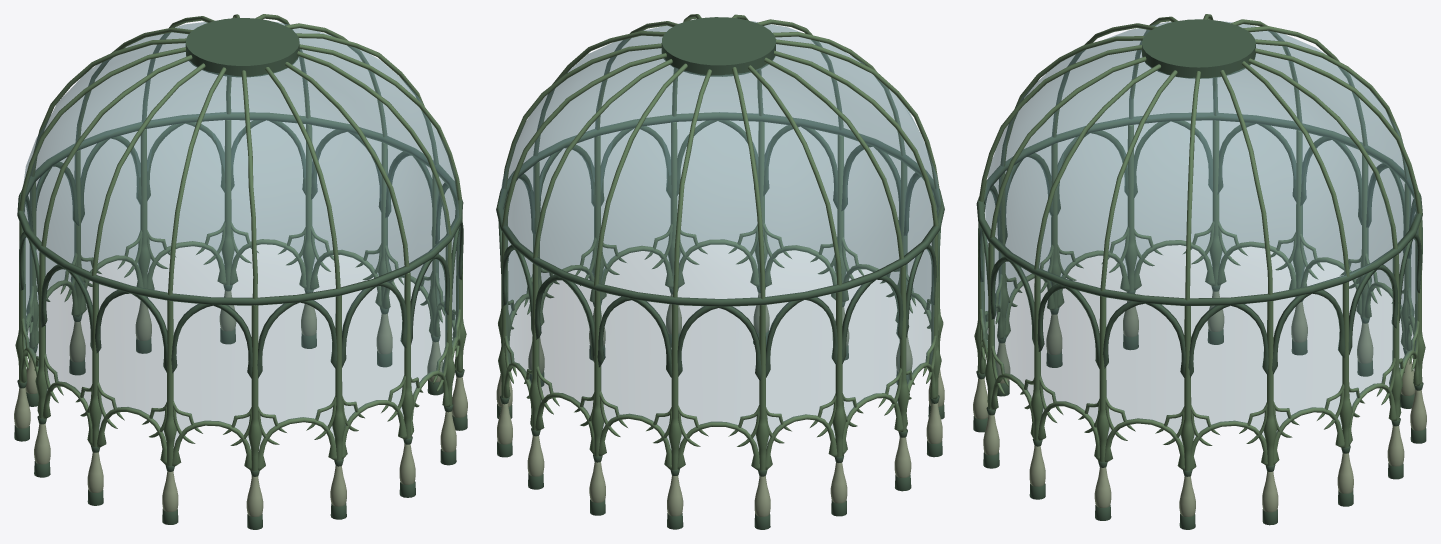
The model's file is Indoor Park.fbx.
The picture shows the model from 3 angles, left to right: view 1: azimuth 30°, elevation 25°; view 2: azimuth 150°, elevation 25°; view 3: azimuth 270°, elevation 25°; orthographic projection.
Visible parts, largest first — view 1: pCube1, pPlane6 (×7), pPlane1 (×2), pPlane4 (×2), pTorus4, pCylinder2, pPlane3 (×2), pPlane5 (×2), pCylinder29 (×2), pCylinder21 (×2), pCylinder60 (×2), pCylinder40 (×2) (+41 smaller); view 2: pCube1, pPlane6 (×8), pPlane5 (×2), pPlane3 (×2), pTorus4, pPlane4, pCylinder2, pPlane1, pCylinder42 (×2), pCylinder64 (×2), pCylinder40 (×2), pCylinder60 (×2) (+40 smaller); view 3: pCube1, pPlane6 (×7), pPlane3 (×2), pPlane5 (×2), pPlane4 (×2), pPlane1 (×2), pTorus4, pCylinder2, pCylinder42 (×2), pCylinder60 (×2), pCylinder64 (×2), pCylinder40 (×2) (+43 smaller).
Part boxes in pixels (x1,y1,x2,y2): pCube1: (23, 22, 458, 297); pPlane6 (×7): (44, 120, 459, 448); pPlane1 (×2): (98, 284, 335, 448); pPlane4 (×2): (147, 120, 381, 274); pTorus4: (17, 112, 463, 305); pCylinder2: (185, 18, 299, 77); pPlane3 (×2): (22, 229, 447, 395); pPlane5 (×2): (36, 153, 455, 320); pCylinder29 (×2): (163, 300, 261, 470); pCylinder21 (×2): (89, 282, 345, 460); pCylinder60 (×2): (221, 120, 314, 290); pCylinder40 (×2): (35, 252, 414, 438); pCube1: (499, 21, 940, 298); pPlane6 (×8): (505, 122, 934, 448); pPlane5 (×2): (540, 138, 759, 450); pPlane3 (×2): (677, 121, 900, 416); pTorus4: (496, 112, 944, 306); pPlane4: (538, 266, 594, 416); pCylinder2: (661, 17, 775, 76); pPlane1: (844, 137, 900, 283); pCylinder42 (×2): (668, 122, 846, 457); pCylinder64 (×2): (592, 135, 769, 470); pCylinder40 (×2): (755, 121, 909, 431); pCylinder60 (×2): (498, 232, 541, 430); pCube1: (985, 21, 1416, 297); pPlane6 (×7): (980, 121, 1393, 440); pPlane3 (×2): (993, 121, 1295, 398); pPlane5 (×2): (1106, 156, 1404, 443); pPlane4 (×2): (1273, 228, 1418, 433); pPlane1 (×2): (985, 126, 1127, 321); pTorus4: (976, 112, 1422, 305); pCylinder2: (1142, 19, 1255, 78); pCylinder42 (×2): (1030, 130, 1306, 440); pCylinder60 (×2): (1340, 254, 1402, 447); pCylinder64 (×2): (1096, 154, 1371, 461); pCylinder40 (×2): (984, 120, 1222, 409).
Size of the model in its own units: 138 by 131 by 138.
